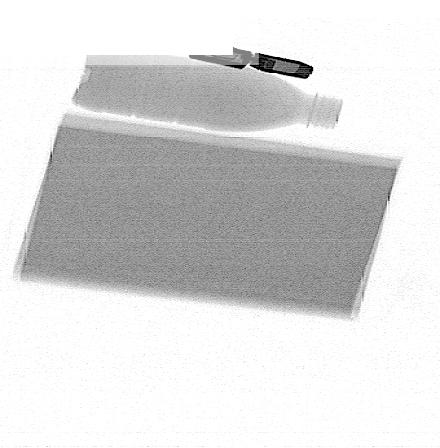Lighter: (189, 41, 315, 80)
